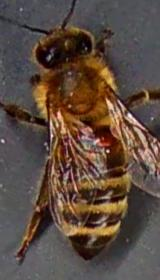varroa_mite: (87, 126, 117, 148)
